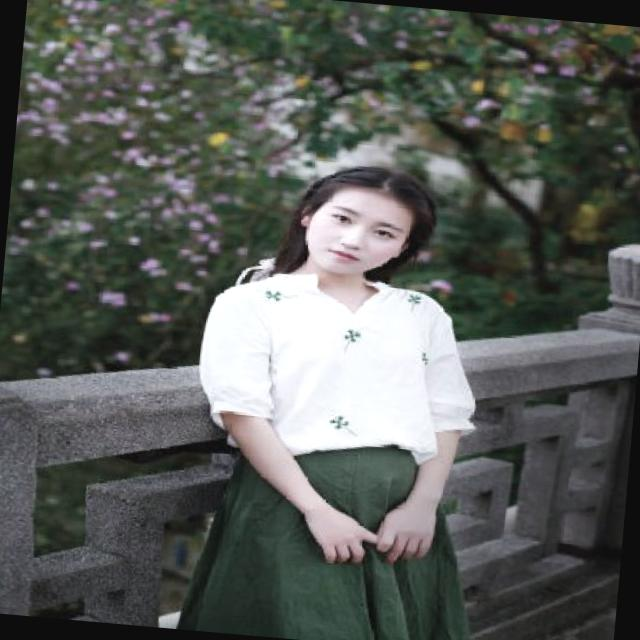Person: (177, 143, 555, 640)
